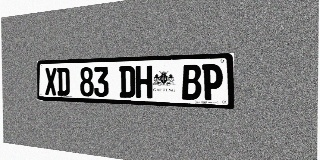3: (94, 67, 108, 97)
8: (80, 67, 94, 97)
B: (182, 64, 201, 100)
D: (119, 66, 135, 98), (57, 67, 70, 96)
H: (135, 65, 152, 98)
P: (202, 64, 223, 101)
X: (45, 68, 57, 95)
